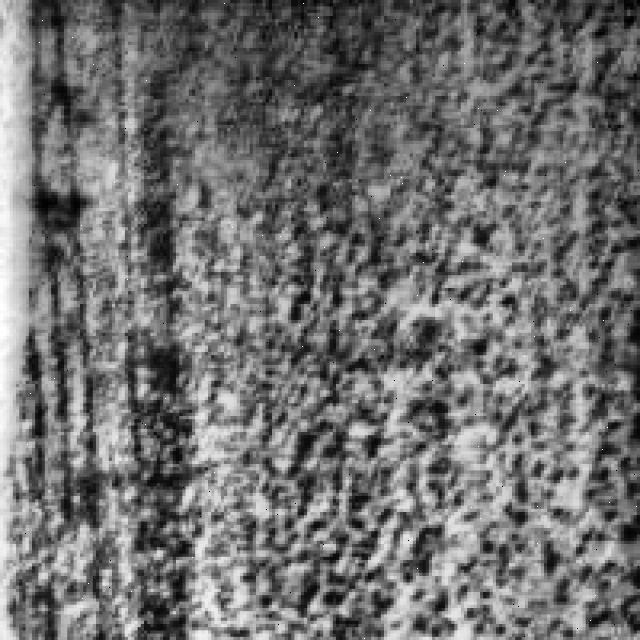Rolled_in_Scale: (160, 9, 624, 630)
